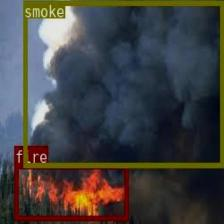fire: (14, 163, 127, 220)
smoke: (22, 0, 223, 167)
